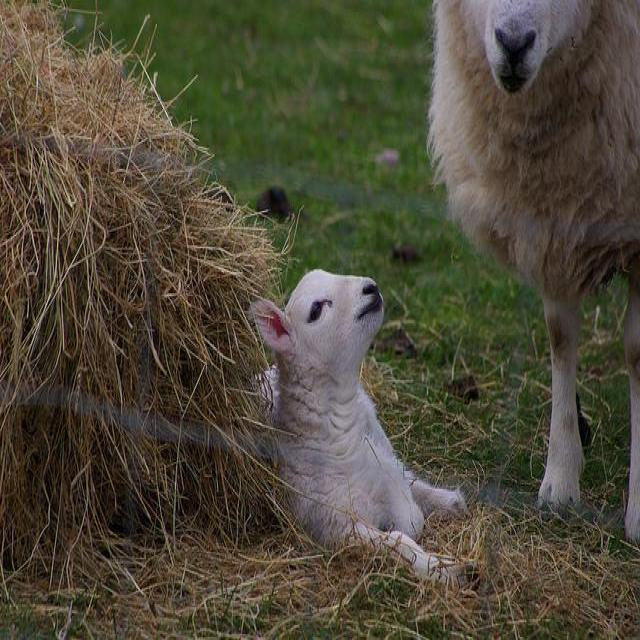Sheep: (425, 0, 639, 543), (251, 269, 490, 588)
